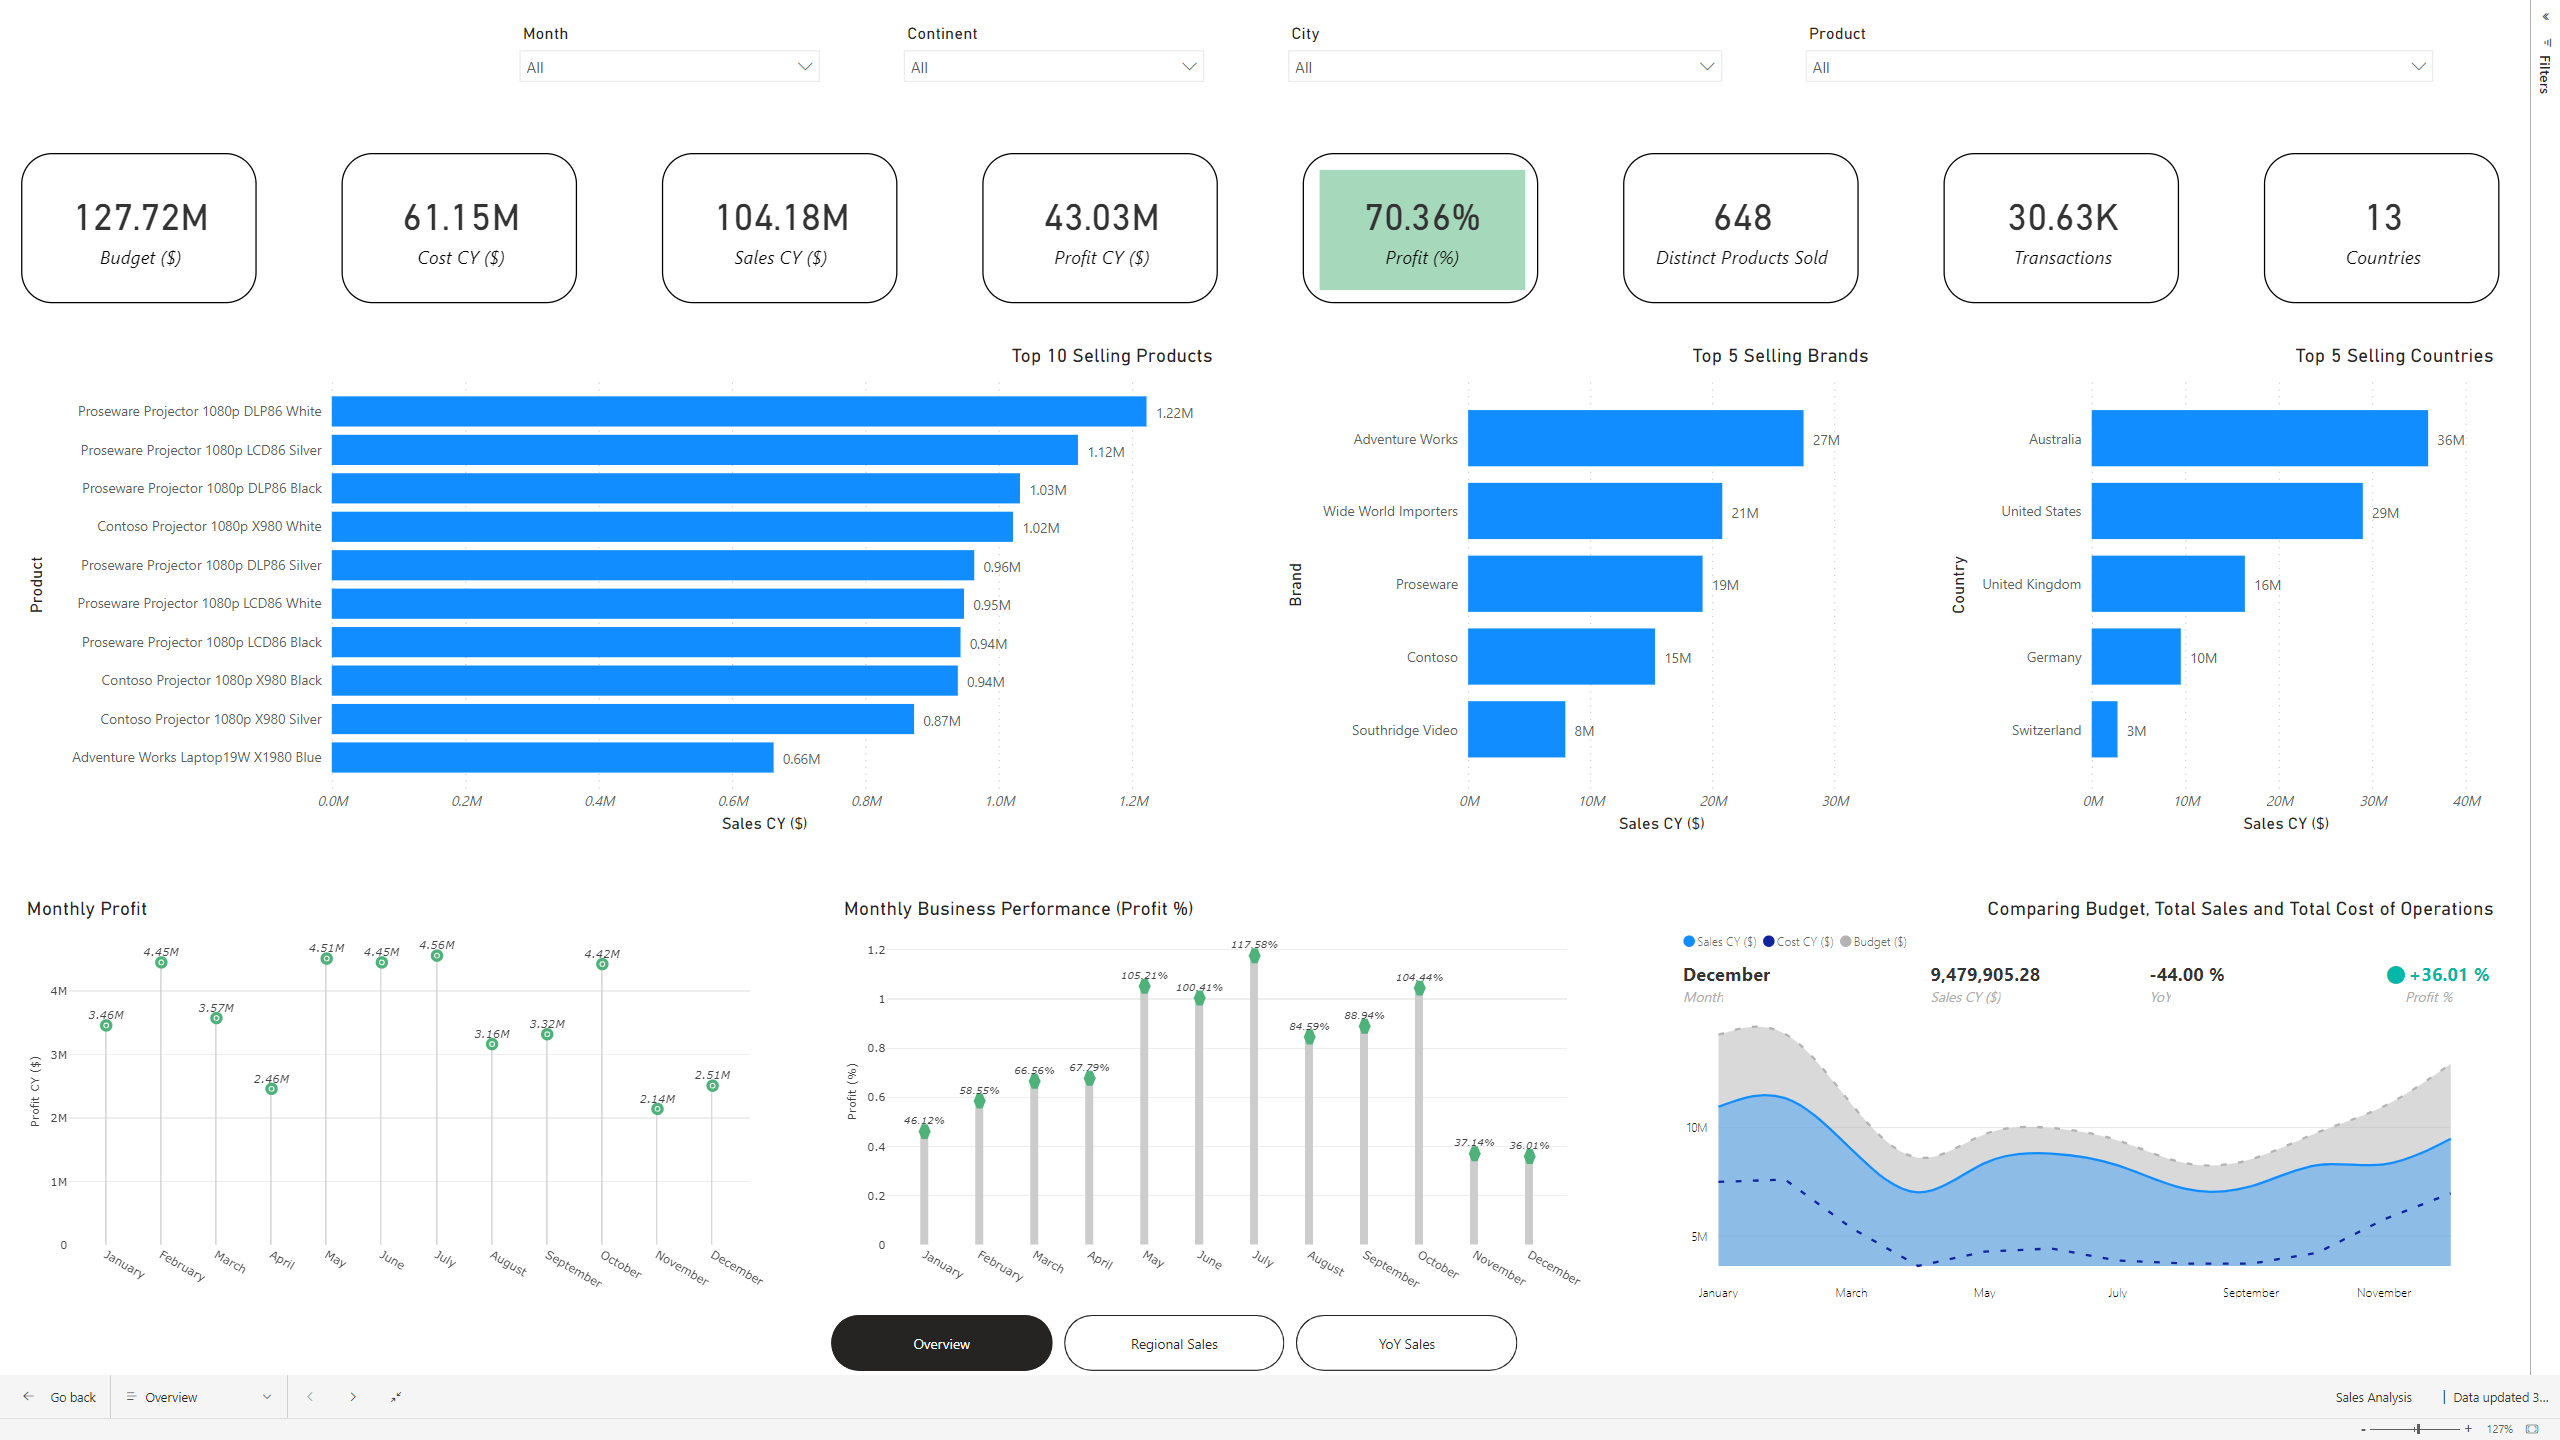

Layout of this report page (visuals, bound fields, positions):
{"tool":"powerbi","page":{"name":"Overview","canvas":[2200,1200],"ordinal":0},"visuals":[{"type":"lollipopcolumn216FD8C19B9DC0D953B3FAE4C3997742","title":"Monthly Profit","fields":{"col_3":["Key Measures.Cost CY ($)","Key Measures.Sales CY ($)"],"col_1":["KPI Measures.Profit CY ($)"],"col_0":["Date.Full Date.Variation.Date Hierarchy.Month"]},"box":[14.6,782.8,665.8,357.7],"z":0},{"type":"powerKPI462CE5C2666F4EC8A8BDD7E5587320A3","title":"Comparing Budget, Total Sales and Total Cost of Operations","fields":{"Axis":["Date.Date.Variation.Date Hierarchy.Month"],"Values":["Key Measures.Sales CY ($)","Key Measures.Cost CY ($)","Key Measures.Budget ($)"],"KPIIndicatorValue":["KPI Measures.Profit %"],"KPI":["KPI Measures.KPI Index"],"SecondKPIIndicatorValue":["Key Measures.Sales YoY %"]},"box":[1459.9,782.8,717.6,357.7],"z":1000},{"type":"lollipopcolumn216FD8C19B9DC0D953B3FAE4C3997742","title":"Monthly Business Performance (Profit %)","fields":{"col_3":["Key Measures.Cost CY ($)","Key Measures.Sales CY ($)"],"col_0":["Date.Full Date.Variation.Date Hierarchy.Month"],"col_1":["KPI Measures.Profit (%)"]},"box":[727.7,782.8,665.8,357.7],"z":2000},{"type":"advanceCardE03760C5AB684758B56AA29F9E6C257B","fields":{"mainMeasure":["Key Measures.Budget ($)"]},"box":[14.9,133.8,205.8,131.6],"z":3000},{"type":"advanceCardE03760C5AB684758B56AA29F9E6C257B","fields":{"mainMeasure":["Key Measures.Sales CY ($)"]},"box":[574,133.8,205.8,131.6],"z":4000},{"type":"advanceCardE03760C5AB684758B56AA29F9E6C257B","fields":{"mainMeasure":["Key Measures.Cost CY ($)"]},"box":[294.5,133.8,205.8,131.6],"z":5000},{"type":"advanceCardE03760C5AB684758B56AA29F9E6C257B","fields":{"mainMeasure":["KPI Measures.Profit CY ($)"]},"box":[853.5,133.8,205.8,131.6],"z":6000},{"type":"advanceCardE03760C5AB684758B56AA29F9E6C257B","fields":{"mainMeasure":["KPI Measures.Profit (%)"]},"box":[1133.1,133.8,205.8,131.6],"z":7000},{"type":"advanceCardE03760C5AB684758B56AA29F9E6C257B","fields":{"mainMeasure":["Key Measures.Products Sold"]},"box":[1412.6,133.8,205.8,131.6],"z":8000},{"type":"advanceCardE03760C5AB684758B56AA29F9E6C257B","fields":{"mainMeasure":["Key Measures.Transactions"]},"box":[1692.1,133.8,205.8,131.6],"z":9000},{"type":"advanceCardE03760C5AB684758B56AA29F9E6C257B","fields":{"mainMeasure":["Key Measures.Countries"]},"box":[1971.7,133.8,205.8,131.6],"z":10000},{"type":"slicer","fields":{"Values":["Product Table.Product"]},"box":[1562.3,14.6,568,84.4],"z":11000},{"type":"slicer","fields":{"Values":["Sales.City"]},"box":[1110.5,14.6,398.8,84.9],"z":12000},{"type":"slicer","fields":{"Values":["Sales.Continent"]},"box":[775.1,14.6,282.3,84.4],"z":13000},{"type":"clusteredBarChart","title":"Top 5 Selling Countries","fields":{"Category":["Sales.Country"],"Y":["Key Measures.Sales CY ($)"]},"box":[1691.6,300.2,485.9,431.9],"z":14000},{"type":"clusteredBarChart","title":"Top 5 Selling Brands","fields":{"Category":["Sales.Brand"],"Y":["Key Measures.Sales CY ($)"]},"box":[1113.5,300.3,518.5,431.9],"z":15000},{"type":"clusteredBarChart","title":"Top 10 Selling Products","fields":{"Category":["Sales.Product"],"Y":["Key Measures.Sales CY ($)"]},"box":[14.6,300.2,1044.9,431.9],"z":16000},{"type":"slicer","fields":{"Values":["Date.Date.Variation.Date Hierarchy.Month"]},"box":[439.8,14.6,282.3,84.4],"z":16001},{"type":"pageNavigator","box":[722.1,1147.2,599.5,49.5],"z":16002}]}

Visuals, with their boxes on the page's 2200x1200 design canvas (x1, y1, x2, y2). These are canvas units, not pixel positions in the 2560x1440 screenshot, which may show the page scaled, cropped or inside an application window:
"Monthly Profit" lollipopcolumn216FD8C19B9DC0D953B3FAE4C3997742: locate(15, 783, 680, 1140)
"Comparing Budget, Total Sales and Total Cost of Operations" powerKPI462CE5C2666F4EC8A8BDD7E5587320A3: locate(1460, 783, 2178, 1140)
"Monthly Business Performance (Profit %)" lollipopcolumn216FD8C19B9DC0D953B3FAE4C3997742: locate(728, 783, 1394, 1140)
advanceCardE03760C5AB684758B56AA29F9E6C257B - Key Measures.Budget ($): locate(15, 134, 221, 265)
advanceCardE03760C5AB684758B56AA29F9E6C257B - Key Measures.Sales CY ($): locate(574, 134, 780, 265)
advanceCardE03760C5AB684758B56AA29F9E6C257B - Key Measures.Cost CY ($): locate(294, 134, 500, 265)
advanceCardE03760C5AB684758B56AA29F9E6C257B - KPI Measures.Profit CY ($): locate(854, 134, 1059, 265)
advanceCardE03760C5AB684758B56AA29F9E6C257B - KPI Measures.Profit (%): locate(1133, 134, 1339, 265)
advanceCardE03760C5AB684758B56AA29F9E6C257B - Key Measures.Products Sold: locate(1413, 134, 1618, 265)
advanceCardE03760C5AB684758B56AA29F9E6C257B - Key Measures.Transactions: locate(1692, 134, 1898, 265)
advanceCardE03760C5AB684758B56AA29F9E6C257B - Key Measures.Countries: locate(1972, 134, 2178, 265)
slicer - Product Table.Product: locate(1562, 15, 2130, 99)
slicer - Sales.City: locate(1110, 15, 1509, 100)
slicer - Sales.Continent: locate(775, 15, 1057, 99)
"Top 5 Selling Countries" clusteredBarChart: locate(1692, 300, 2178, 732)
"Top 5 Selling Brands" clusteredBarChart: locate(1114, 300, 1632, 732)
"Top 10 Selling Products" clusteredBarChart: locate(15, 300, 1060, 732)
slicer - Date.Date.Variation.Date Hierarchy.Month: locate(440, 15, 722, 99)
pageNavigator: locate(722, 1147, 1322, 1197)
